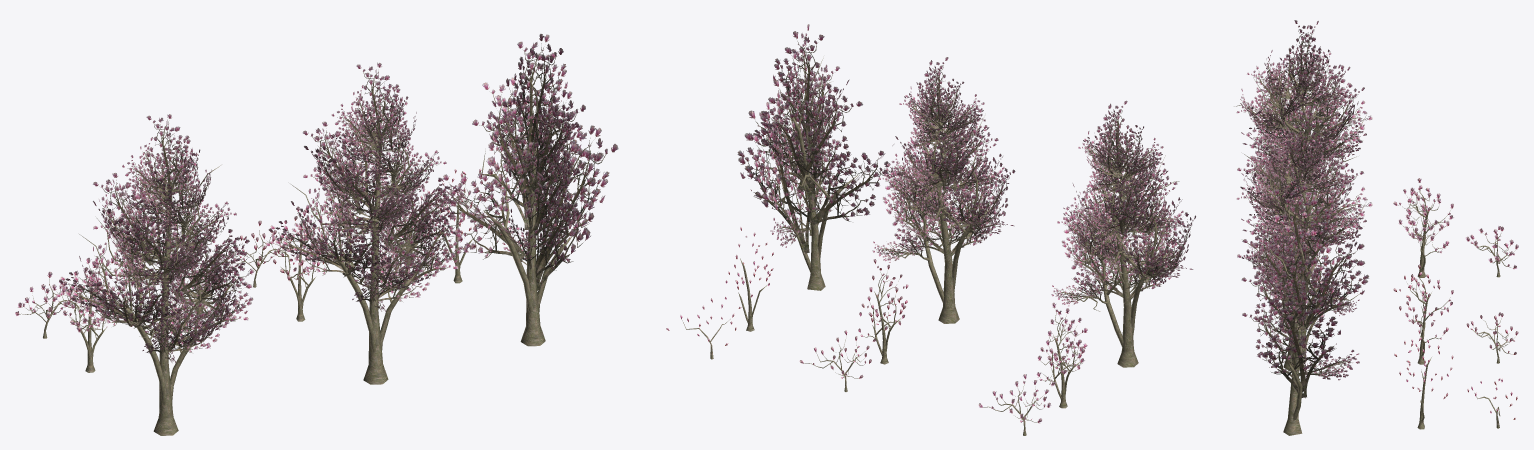
File: gardenMagnolia_meshes.fbx
3 views of the same model, side by side, from view 1: azimuth 30°, elevation 25°; view 2: azimuth 150°, elevation 25°; view 3: azimuth 270°, elevation 25° (orthographic). The views are drawn at different scales.
Visible parts, largest first — view 1: treeMagnolia_C, treeMagnolia_C_1, treeMagnolia_C_2, treeMagnolia_B, treeMagnolia_B_1, treeMagnolia_A, treeMagnolia_B_2; view 2: treeMagnolia_C, treeMagnolia_C_1, treeMagnolia_C_2, treeMagnolia_B, treeMagnolia_B_1, treeMagnolia_A, treeMagnolia_B_2, treeMagnolia_A_1; view 3: treeMagnolia_C_2, treeMagnolia_C_1, treeMagnolia_C, treeMagnolia_B, treeMagnolia_B_1, treeMagnolia_A, treeMagnolia_B_2, treeMagnolia_A_1.
Part boxes in pixels (x1,y1,x2,y2): treeMagnolia_C: [56, 114, 254, 435]; treeMagnolia_C_1: [266, 62, 463, 384]; treeMagnolia_C_2: [427, 34, 618, 346]; treeMagnolia_B: [51, 258, 116, 372]; treeMagnolia_B_1: [262, 206, 324, 321]; treeMagnolia_A: [15, 271, 83, 338]; treeMagnolia_B_2: [420, 168, 481, 283]; treeMagnolia_C: [1051, 100, 1195, 367]; treeMagnolia_C_1: [872, 57, 1015, 323]; treeMagnolia_C_2: [737, 24, 902, 290]; treeMagnolia_B: [1036, 302, 1087, 408]; treeMagnolia_B_1: [858, 259, 908, 364]; treeMagnolia_A: [978, 374, 1051, 435]; treeMagnolia_B_2: [725, 227, 773, 331]; treeMagnolia_A_1: [799, 330, 871, 391]; treeMagnolia_C_2: [1241, 173, 1368, 435]; treeMagnolia_C_1: [1236, 106, 1372, 370]; treeMagnolia_C: [1234, 20, 1372, 280]; treeMagnolia_B: [1393, 178, 1453, 277]; treeMagnolia_B_1: [1393, 264, 1453, 364]; treeMagnolia_A: [1465, 226, 1518, 277]; treeMagnolia_B_2: [1394, 330, 1453, 429]; treeMagnolia_A_1: [1466, 312, 1518, 363].
Bounding box in the file's own units: 11.06 × 5.72 × 5.67.
